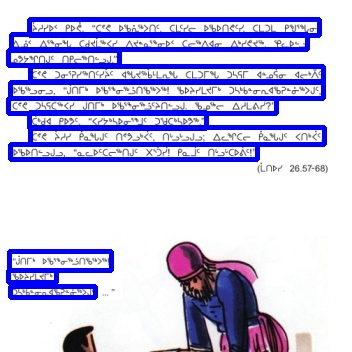inuktitut: (10, 82, 323, 98), (30, 127, 324, 144), (29, 19, 319, 35), (11, 34, 307, 49), (30, 66, 323, 81), (8, 98, 276, 113), (10, 144, 257, 159), (29, 112, 206, 128), (9, 251, 111, 270), (8, 50, 119, 65), (10, 286, 95, 297), (8, 270, 56, 282)
